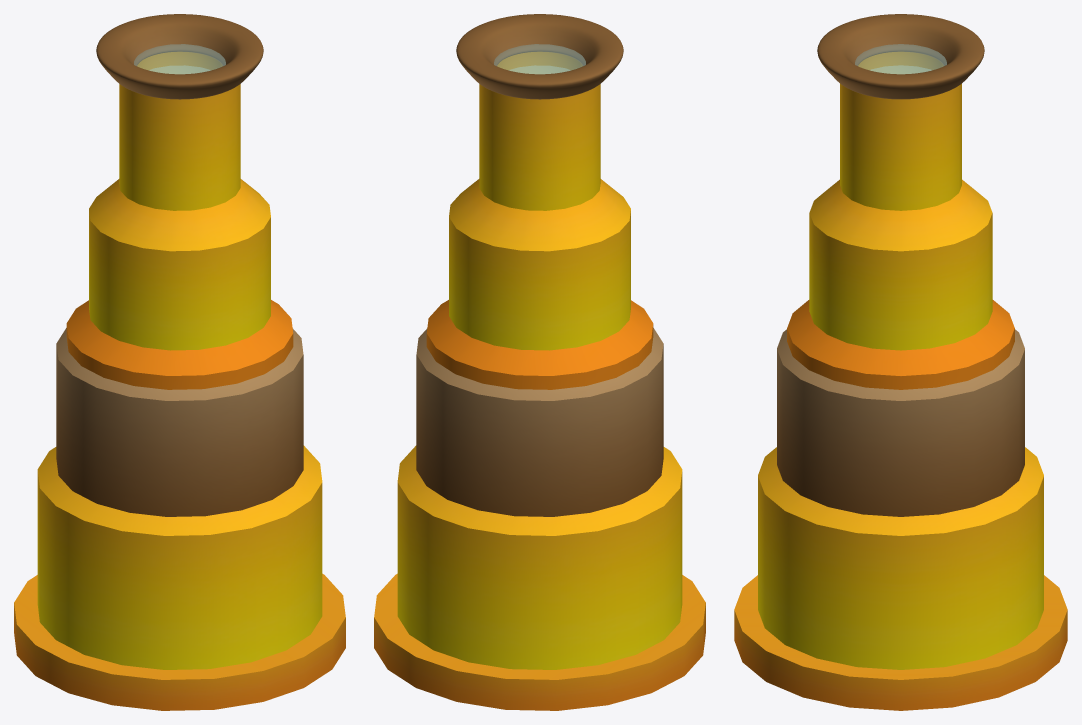
Rendered from Telescope.fbx.
3 views of the same model, side by side, from view 1: azimuth 30°, elevation 25°; view 2: azimuth 150°, elevation 25°; view 3: azimuth 270°, elevation 25° (orthographic).
Parts seen in each view (by area): view 1: pPipe1, pPipe8, pPipe6, pPipe4, pPipe5, pPipe7, pTorus1, pSphere1; view 2: pPipe1, pPipe8, pPipe6, pPipe4, pPipe5, pPipe7, pTorus1, pSphere1; view 3: pPipe1, pPipe8, pPipe6, pPipe4, pPipe5, pPipe7, pTorus1, pSphere1.
Part boxes in pixels (x1,y1,x2,y2): pPipe1: (37, 445, 322, 669); pPipe8: (56, 328, 303, 516); pPipe6: (89, 179, 270, 350); pPipe4: (14, 573, 345, 710); pPipe5: (119, 51, 240, 210); pPipe7: (66, 300, 293, 389); pTorus1: (96, 14, 263, 99); pSphere1: (134, 44, 225, 74); pPipe1: (397, 445, 682, 669); pPipe8: (416, 328, 663, 516); pPipe6: (449, 179, 630, 350); pPipe4: (374, 573, 705, 710); pPipe5: (479, 51, 600, 210); pPipe7: (426, 300, 653, 389); pTorus1: (456, 14, 623, 99); pSphere1: (494, 44, 585, 74); pPipe1: (758, 447, 1043, 669); pPipe8: (777, 329, 1024, 516); pPipe6: (809, 179, 992, 350); pPipe4: (734, 575, 1067, 710); pPipe5: (840, 51, 961, 210); pPipe7: (787, 300, 1014, 389); pTorus1: (817, 14, 984, 99); pSphere1: (855, 44, 946, 74).
Size of the model in its own units: 4.07 by 8.23 by 4.07.
